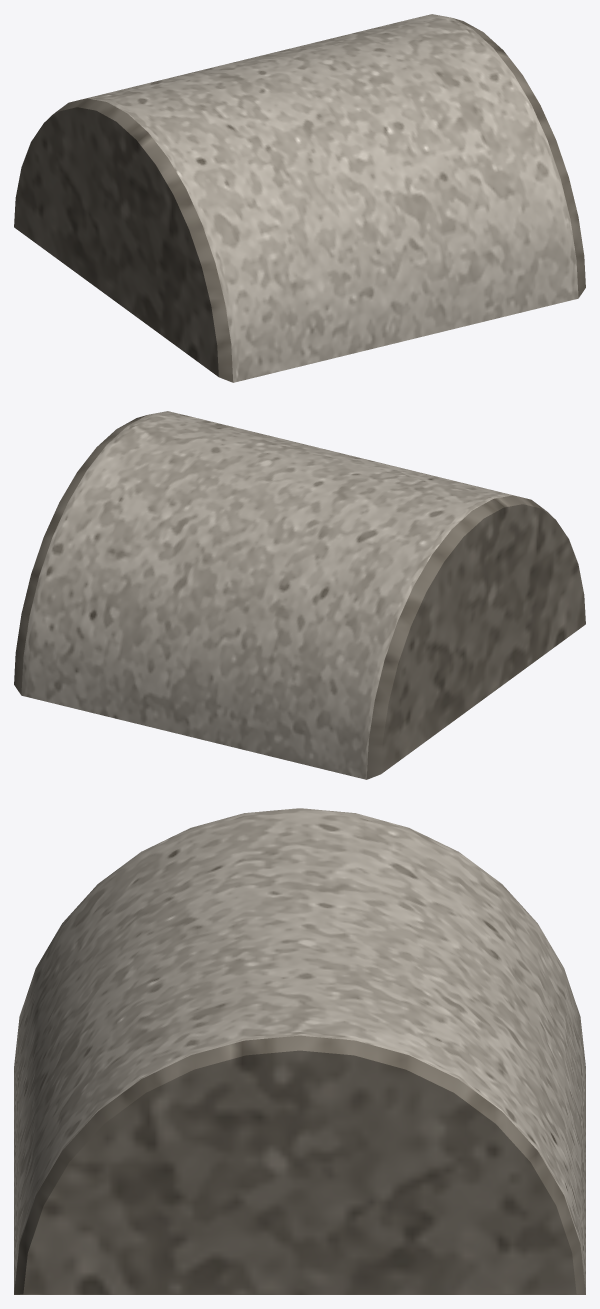
The model's file is GB_003_004_wall_top_rounded.glb.
3 renders of one model, top to bottom at view 1: azimuth 30°, elevation 25°; view 2: azimuth 150°, elevation 25°; view 3: azimuth 270°, elevation 25°, orthographic. The views are drawn at different scales.
Visible parts, largest first — view 1: GB_003_004_wall_top_rounded; view 2: GB_003_004_wall_top_rounded; view 3: GB_003_004_wall_top_rounded.
Boxes of the visible parts, box(x1,y1,x2,y2) form: GB_003_004_wall_top_rounded: box(14, 14, 585, 382); GB_003_004_wall_top_rounded: box(14, 411, 585, 779); GB_003_004_wall_top_rounded: box(14, 808, 585, 1294).
Size of the model in its own units: 0.75 by 0.3748 by 0.7497.
1 material, 1 textured.
